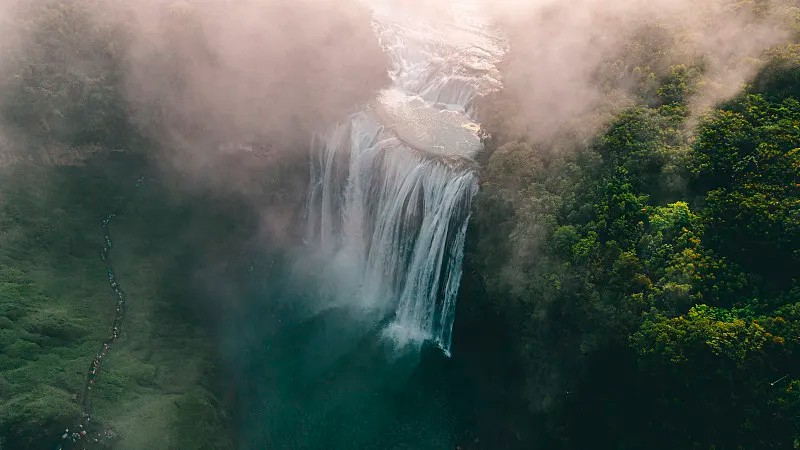Huangguoshu: (306, 27, 486, 355)
